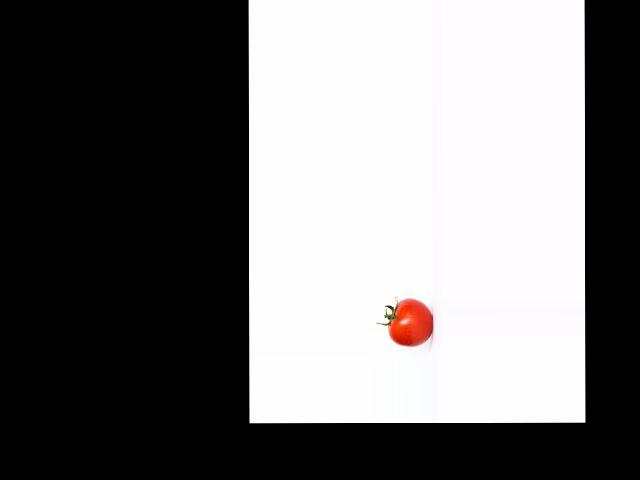tomato: (388, 299, 432, 347)
